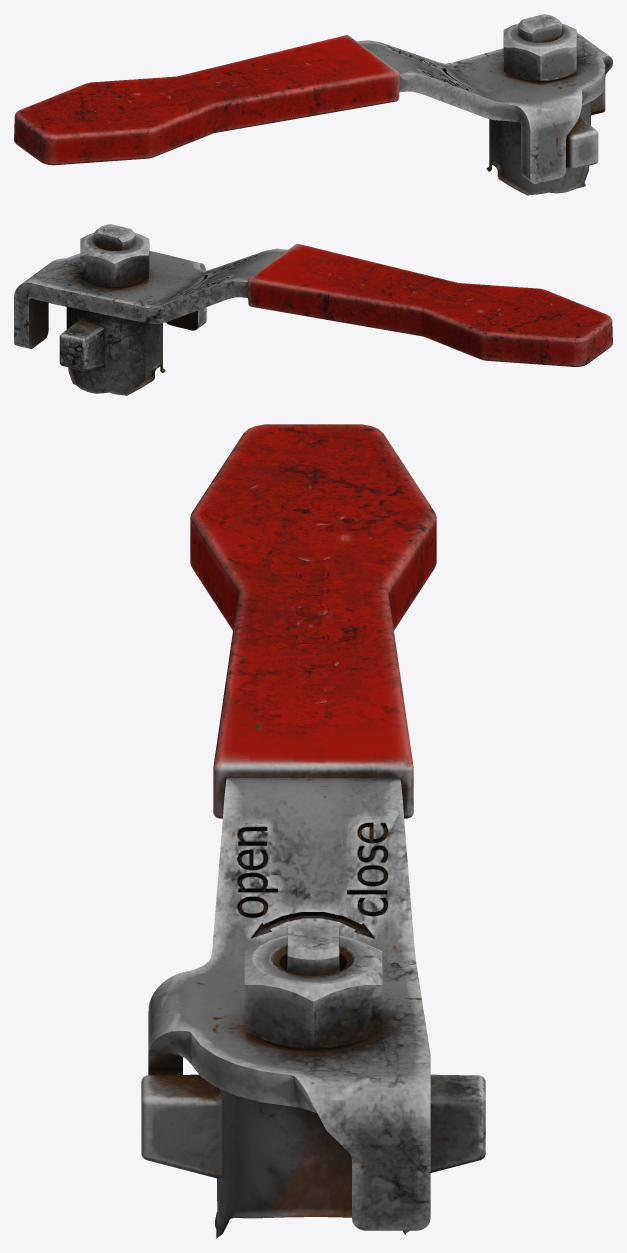
The model's file is velve2.fbx.
3 renders of one model, top to bottom at view 1: azimuth 30°, elevation 25°; view 2: azimuth 150°, elevation 25°; view 3: azimuth 270°, elevation 25°, orthographic. The views are drawn at different scales.
Parts seen in each view (by area): view 1: IDvalve_990_1_1_4_000; view 2: IDvalve_990_1_1_4_000; view 3: IDvalve_990_1_1_4_000.
Boxes of the visible parts, <box> form: IDvalve_990_1_1_4_000: <box>14,14,612,195</box>; IDvalve_990_1_1_4_000: <box>14,224,612,395</box>; IDvalve_990_1_1_4_000: <box>141,424,485,1238</box>.
Bounding box in the file's own units: 93.33 × 25 × 26.41.
